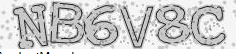6: (84, 4, 119, 47)
8: (154, 3, 191, 48)
B: (50, 1, 85, 46)
C: (190, 5, 228, 48)
N: (12, 3, 50, 50)
V: (119, 5, 156, 50)
